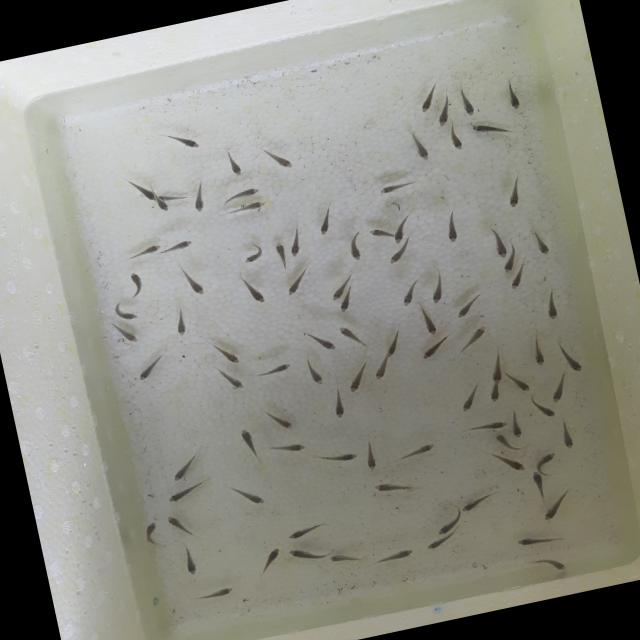fingerling: (507, 524, 568, 554), (184, 578, 243, 607), (452, 318, 497, 356), (469, 114, 522, 146), (367, 472, 422, 502), (334, 316, 374, 356), (259, 401, 299, 438), (372, 173, 426, 200), (435, 204, 468, 247), (225, 479, 268, 512), (392, 438, 442, 466), (136, 516, 171, 556), (496, 73, 530, 114), (259, 142, 297, 178), (450, 379, 488, 415), (238, 271, 272, 310), (370, 542, 420, 568), (176, 262, 210, 300), (285, 539, 328, 569), (164, 478, 208, 507), (164, 454, 206, 484), (278, 265, 316, 298), (248, 357, 298, 382), (314, 444, 362, 470), (162, 127, 202, 158), (162, 508, 198, 542), (302, 326, 340, 358), (405, 124, 435, 164), (532, 550, 572, 580), (132, 351, 168, 384), (459, 488, 503, 515), (452, 288, 489, 320), (312, 198, 342, 236), (555, 338, 586, 374), (414, 302, 443, 340), (536, 286, 564, 325), (415, 333, 454, 361), (525, 331, 553, 370), (236, 423, 264, 462), (121, 268, 153, 302), (500, 176, 532, 210), (284, 518, 329, 542), (176, 540, 203, 580), (300, 352, 328, 390), (220, 182, 266, 205), (423, 270, 452, 306), (268, 434, 308, 460), (218, 148, 249, 181), (211, 338, 245, 368), (122, 240, 164, 264), (544, 371, 573, 405), (188, 180, 215, 216), (462, 415, 508, 436), (256, 544, 286, 576), (380, 323, 408, 357), (484, 224, 510, 260), (395, 277, 425, 308), (324, 546, 362, 570), (168, 304, 194, 339), (239, 237, 269, 267), (217, 366, 249, 394), (342, 230, 368, 264), (527, 224, 553, 258), (533, 498, 567, 524), (554, 415, 577, 453), (226, 198, 268, 218), (505, 366, 533, 396), (128, 176, 156, 205), (457, 84, 479, 120), (445, 120, 468, 154), (499, 450, 529, 476), (383, 242, 415, 266), (342, 368, 368, 396), (282, 228, 304, 261), (271, 239, 293, 272), (161, 236, 197, 256), (418, 533, 454, 553), (361, 438, 380, 474), (506, 408, 528, 439), (432, 514, 463, 536), (528, 468, 548, 502), (116, 324, 144, 348), (533, 449, 561, 473), (112, 302, 141, 325), (484, 355, 507, 384), (329, 392, 351, 420), (488, 428, 513, 452), (370, 358, 395, 382), (366, 223, 392, 244), (506, 268, 530, 290), (535, 401, 558, 421), (498, 255, 520, 274), (434, 108, 454, 128), (416, 95, 436, 114), (485, 384, 504, 404), (327, 286, 346, 304), (391, 227, 405, 246), (336, 298, 355, 312), (154, 200, 174, 213)
